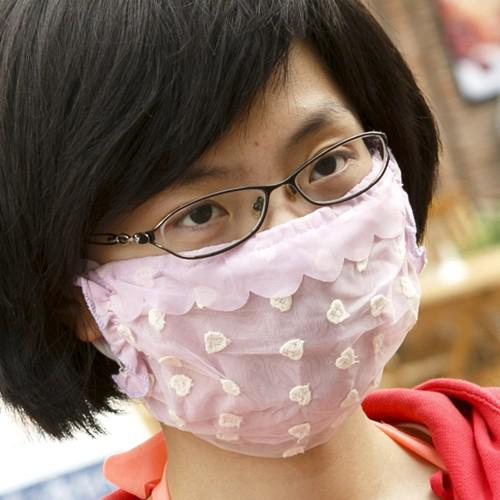OK: (87, 105, 417, 449)
